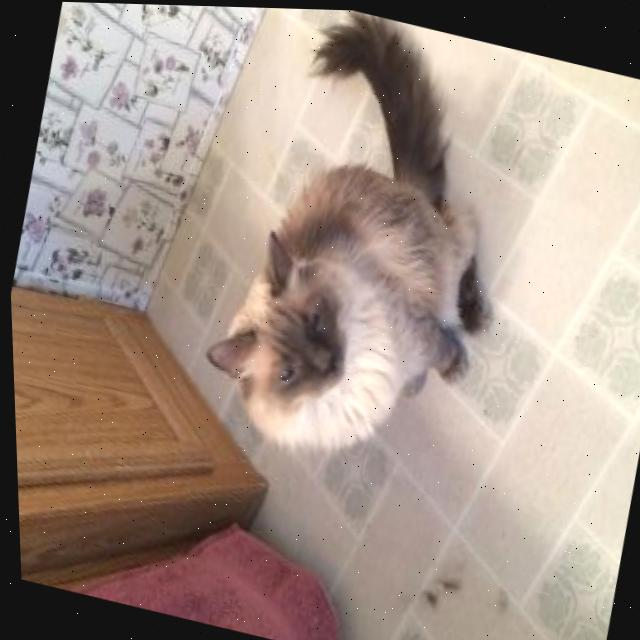Birman: (168, 4, 548, 493)
